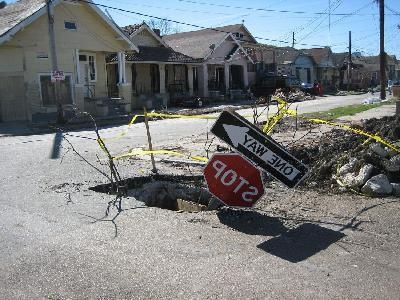pothole: (85, 167, 231, 214)
